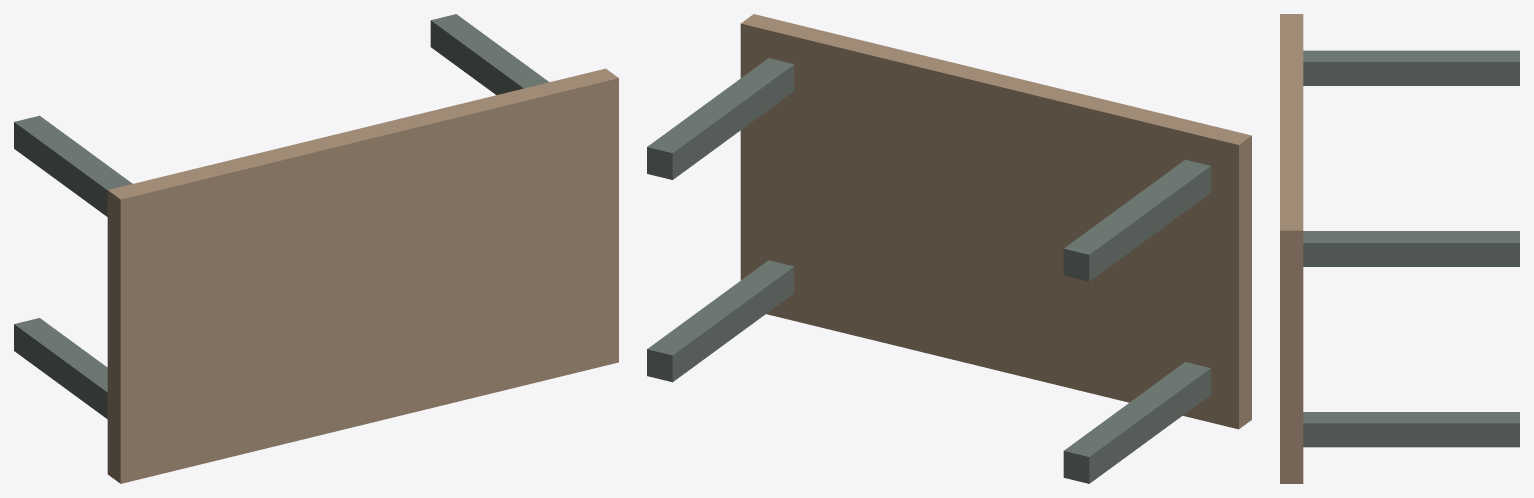
File: dining-table.glb
The picture shows the model from 3 angles, left to right: view 1: azimuth 30°, elevation 25°; view 2: azimuth 150°, elevation 25°; view 3: azimuth 270°, elevation 25°; orthographic projection. The views are drawn at different scales.
Parts seen in each view (by area): view 1: world; view 2: world; view 3: world.
Boxes of the visible parts, bbox=[...] form: world: bbox=[14, 14, 618, 483]; world: bbox=[647, 14, 1251, 483]; world: bbox=[1280, 14, 1519, 483].
Size of the model in its own units: 1.65 by 0.9 by 0.7725.
